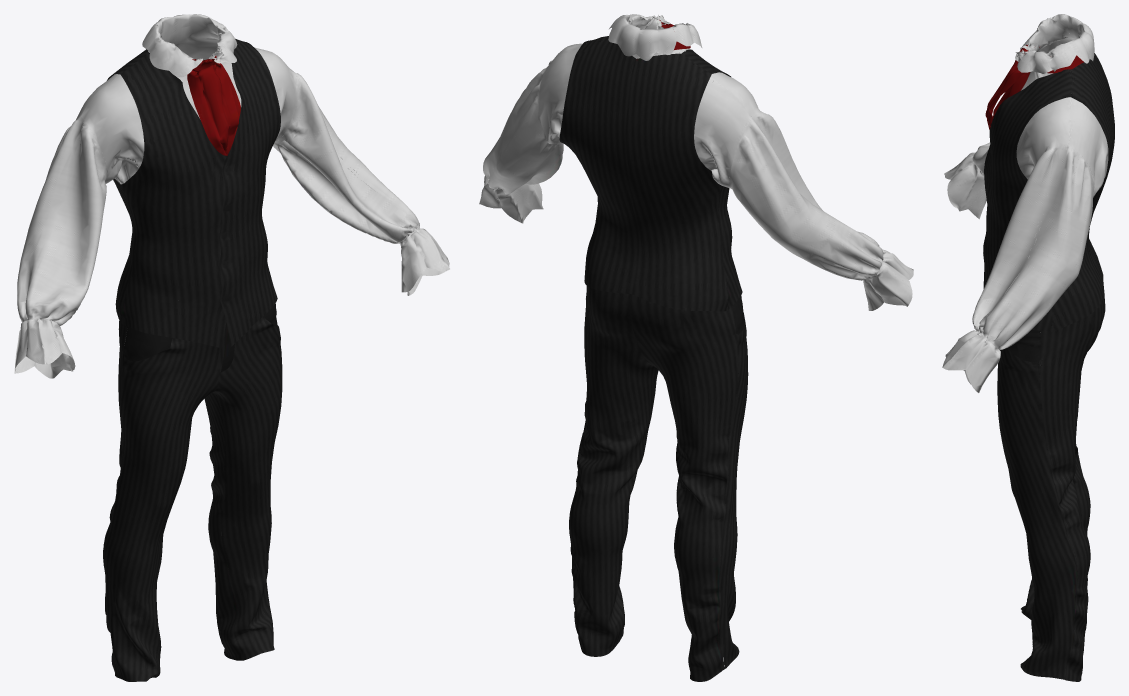
The model's file is outfit-4.glb.
3 renders of one model, left to right at view 1: azimuth 30°, elevation 25°; view 2: azimuth 150°, elevation 25°; view 3: azimuth 270°, elevation 25°, orthographic. The views are drawn at different scales.
Visible parts, largest first — view 1: aristo; view 2: aristo; view 3: aristo.
Boxes of the visible parts, x1,y1,x2,y2 form: aristo: (14,14,449,681); aristo: (479,14,913,681); aristo: (942,14,1114,681).
Size of the model in its own units: 1.07 by 1.52 by 0.3809.
Materials: 1 (1 with a texture image).
